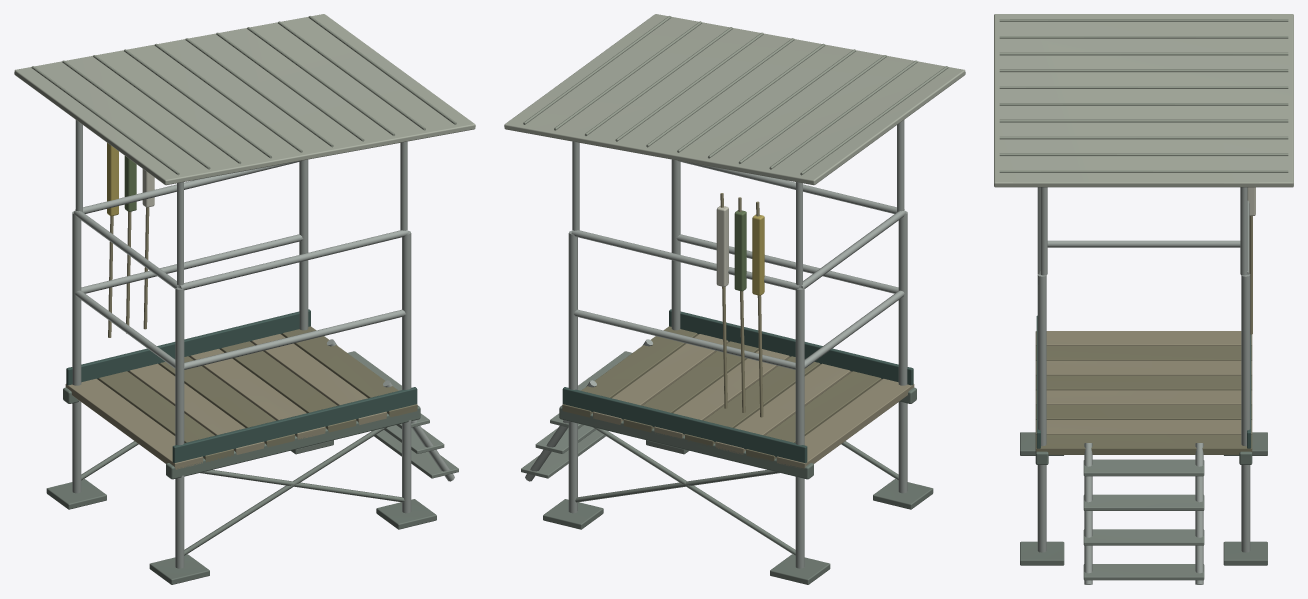
File: marshal-post-near.glb
The picture shows the model from 3 angles, left to right: view 1: azimuth 30°, elevation 25°; view 2: azimuth 150°, elevation 25°; view 3: azimuth 270°, elevation 25°; orthographic projection.
Visible parts, largest first — view 1: Lightweight sloped shade roof, Safety toe-board.001, Safety toe-board, Individual non-slip platform plank, Individual non-slip platform plank.005, Individual non-slip platform plank.006, Individual non-slip platform plank.004, Individual non-slip platform plank.002, Individual non-slip platform plank.001, Individual non-slip platform plank.007, Platform rim beam.001, Individual non-slip platform plank.003 (+31 smaller); view 2: Lightweight sloped shade roof, Safety toe-board, Safety toe-board.001, Individual non-slip platform plank, Platform rim beam, Individual non-slip platform plank.006, Individual non-slip platform plank.001, Individual non-slip platform plank.002, Individual non-slip platform plank.007, Individual non-slip platform plank.005, Braced platform support.001, Braced platform support (+33 smaller); view 3: Lightweight sloped shade roof, Individual non-slip platform plank.007, Individual non-slip platform plank.002, Individual non-slip platform plank.003, Individual non-slip platform plank.001, Individual non-slip platform plank.005, Individual non-slip platform plank.006, Individual non-slip platform plank.004, Individual non-slip platform plank, Braced platform support.002, Braced platform support.003, Open tread access step.003 (+23 smaller).
Part boxes in pixels (x1=…): Lightweight sloped shade roof: x1=14, y1=14, x2=475, y2=185; Safety toe-board.001: x1=172, y1=387, x2=417, y2=463; Safety toe-board: x1=66, y1=309, x2=310, y2=385; Individual non-slip platform plank: x1=65, y1=378, x2=203, y2=469; Individual non-slip platform plank.005: x1=220, y1=341, x2=356, y2=432; Individual non-slip platform plank.006: x1=250, y1=334, x2=386, y2=424; Individual non-slip platform plank.004: x1=189, y1=349, x2=325, y2=439; Individual non-slip platform plank.002: x1=128, y1=363, x2=264, y2=454; Individual non-slip platform plank.001: x1=97, y1=371, x2=233, y2=462; Individual non-slip platform plank.007: x1=281, y1=326, x2=417, y2=417; Platform rim beam.001: x1=166, y1=405, x2=420, y2=479; Individual non-slip platform plank.003: x1=158, y1=356, x2=294, y2=447; Lightweight sloped shade roof: x1=504, y1=14, x2=965, y2=185; Safety toe-board: x1=562, y1=387, x2=807, y2=463; Safety toe-board.001: x1=669, y1=309, x2=913, y2=385; Individual non-slip platform plank: x1=776, y1=378, x2=914, y2=469; Platform rim beam: x1=559, y1=405, x2=813, y2=479; Individual non-slip platform plank.006: x1=593, y1=334, x2=729, y2=424; Individual non-slip platform plank.001: x1=746, y1=371, x2=882, y2=461; Individual non-slip platform plank.002: x1=715, y1=363, x2=851, y2=454; Individual non-slip platform plank.007: x1=562, y1=326, x2=698, y2=417; Individual non-slip platform plank.005: x1=623, y1=341, x2=758, y2=432; Braced platform support.001: x1=898, y1=211, x2=907, y2=493; Braced platform support: x1=795, y1=288, x2=804, y2=568; Lightweight sloped shade roof: x1=994, y1=14, x2=1293, y2=187; Individual non-slip platform plank.007: x1=1035, y1=434, x2=1252, y2=454; Individual non-slip platform plank.002: x1=1035, y1=360, x2=1252, y2=375; Individual non-slip platform plank.003: x1=1035, y1=375, x2=1252, y2=390; Individual non-slip platform plank.001: x1=1035, y1=346, x2=1252, y2=360; Individual non-slip platform plank.005: x1=1035, y1=405, x2=1252, y2=419; Individual non-slip platform plank.006: x1=1035, y1=420, x2=1252, y2=434; Individual non-slip platform plank.004: x1=1035, y1=390, x2=1252, y2=404; Individual non-slip platform plank: x1=1035, y1=331, x2=1252, y2=345; Braced platform support.002: x1=1241, y1=274, x2=1250, y2=552; Braced platform support.003: x1=1037, y1=274, x2=1046, y2=552; Open tread access step.003: x1=1083, y1=459, x2=1204, y2=476.
Bounding box in the file's own units: 2.09 × 2.48 × 1.62.
